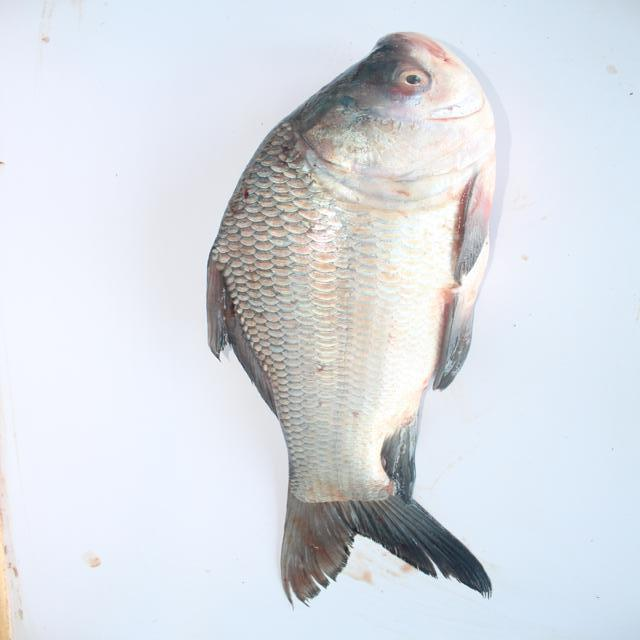Indian Carp: (182, 28, 501, 607)
